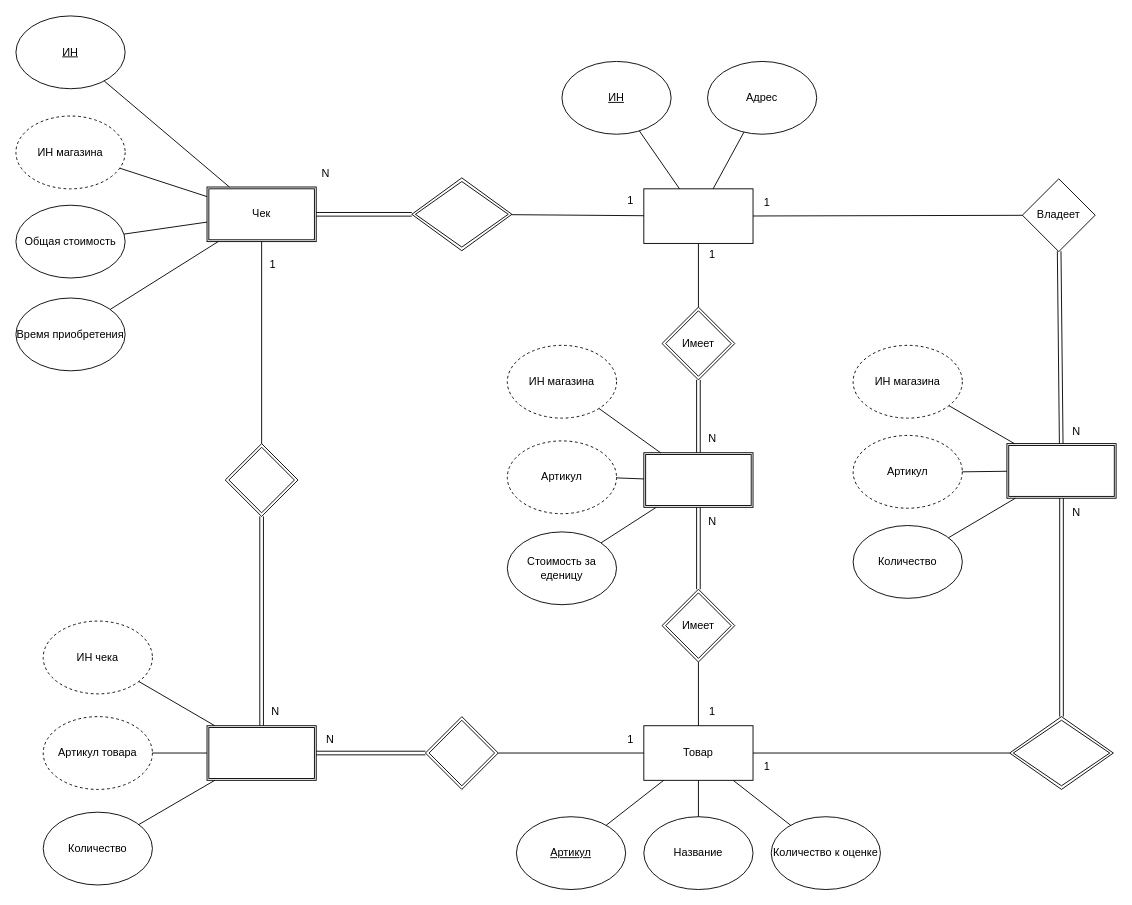
Image size: 1132x905. Some labels were removed from this diagram. Each missing label, with the box of its shape:
Магазин: (643, 188, 753, 243)
Покупка: (206, 725, 316, 780)
Содержит информацию: (411, 177, 512, 251)
Сопоставляется: (1009, 716, 1113, 789)
Состоит из: (224, 443, 298, 516)
Учёт: (1006, 443, 1116, 498)
Цена: (643, 452, 753, 507)
Является: (425, 716, 498, 789)
